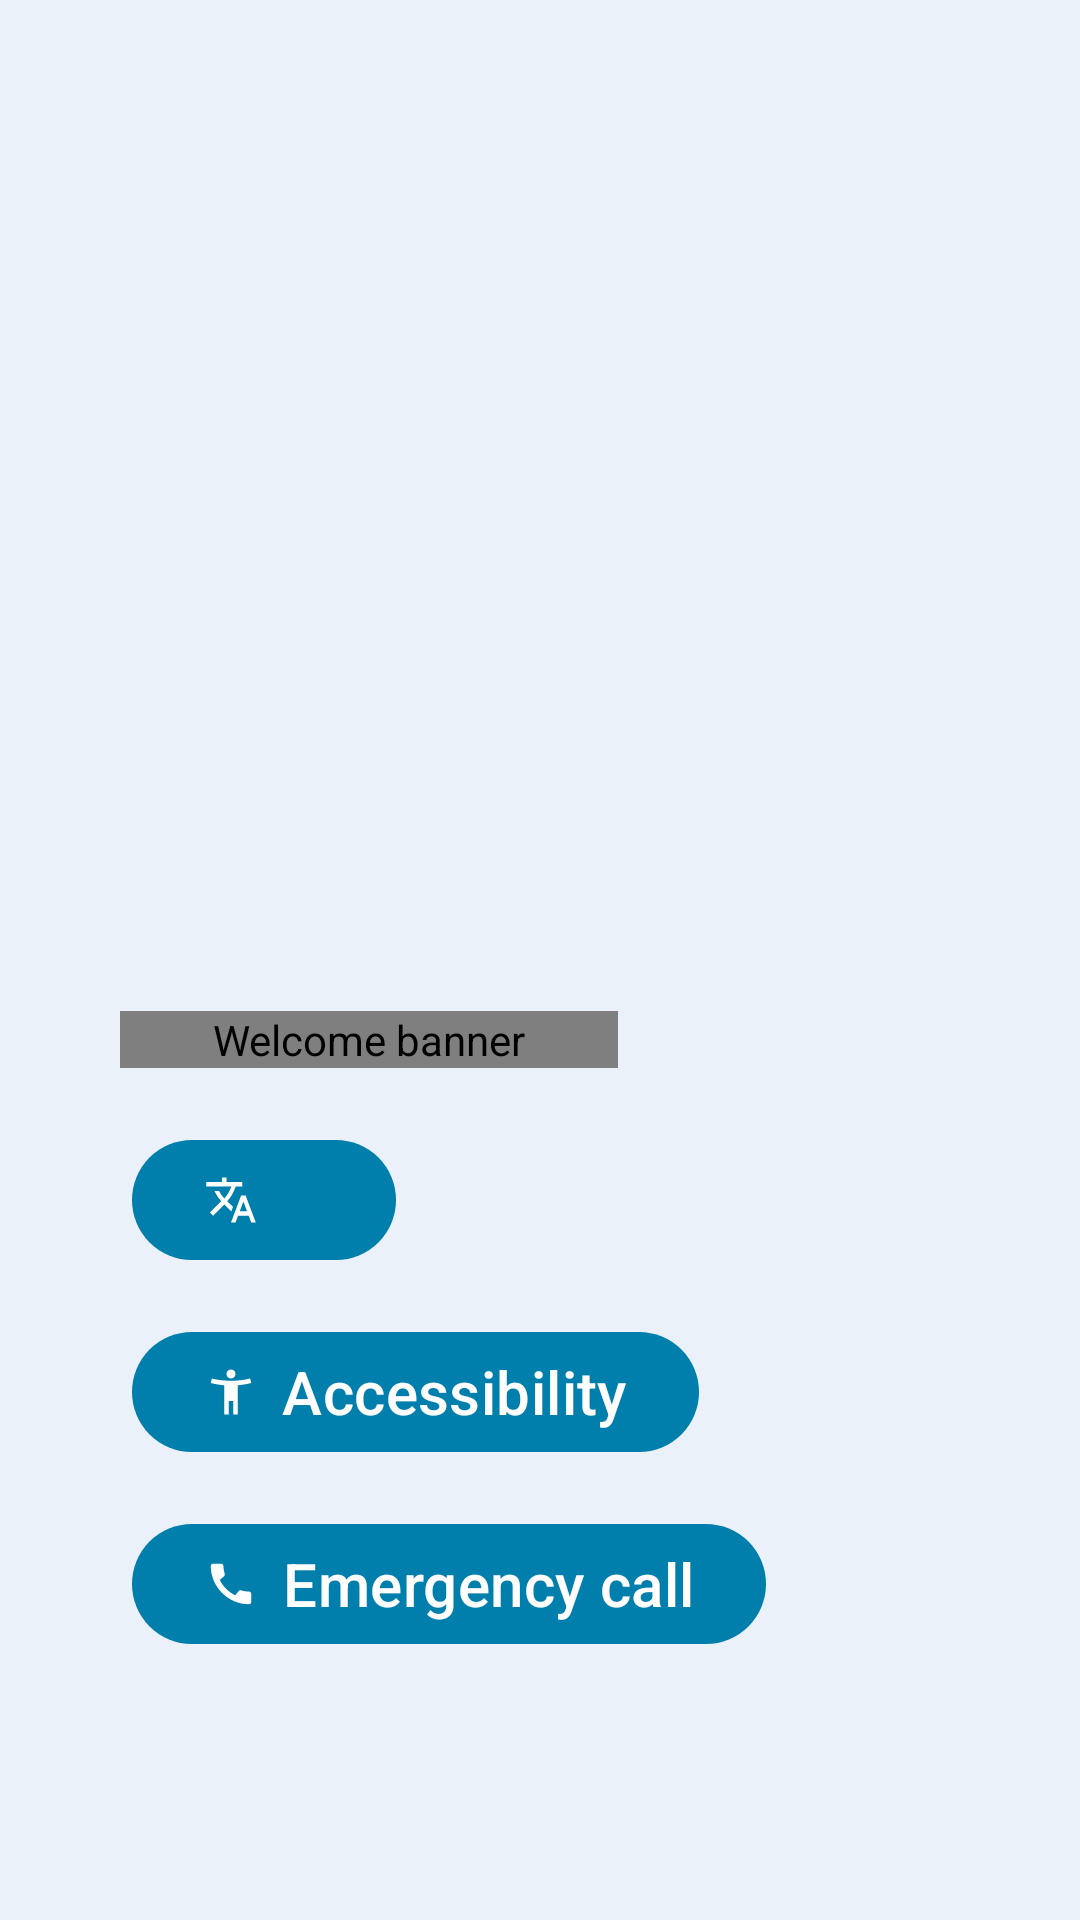

Icon click points for this 1080px x 1920px phone screenshot, format (x,y):
Switch System Language: (264,1200)
